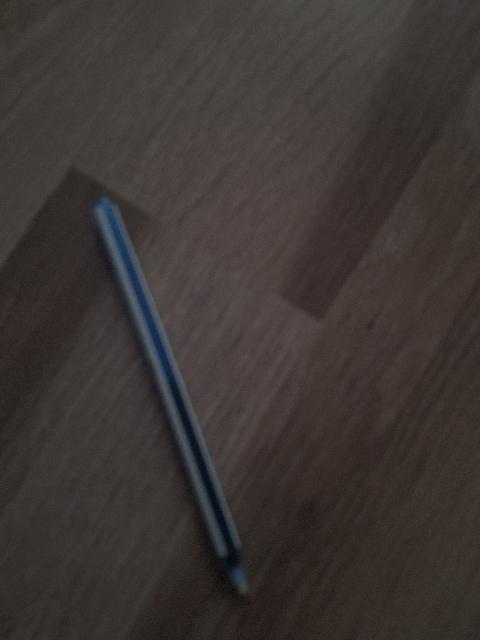writing_tool: (89, 201, 263, 608)
